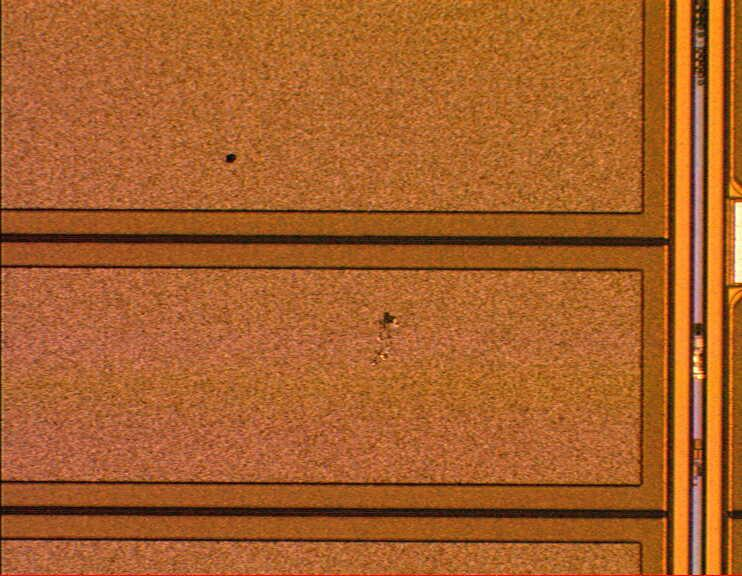SCRATCH: (353, 305, 432, 374)
